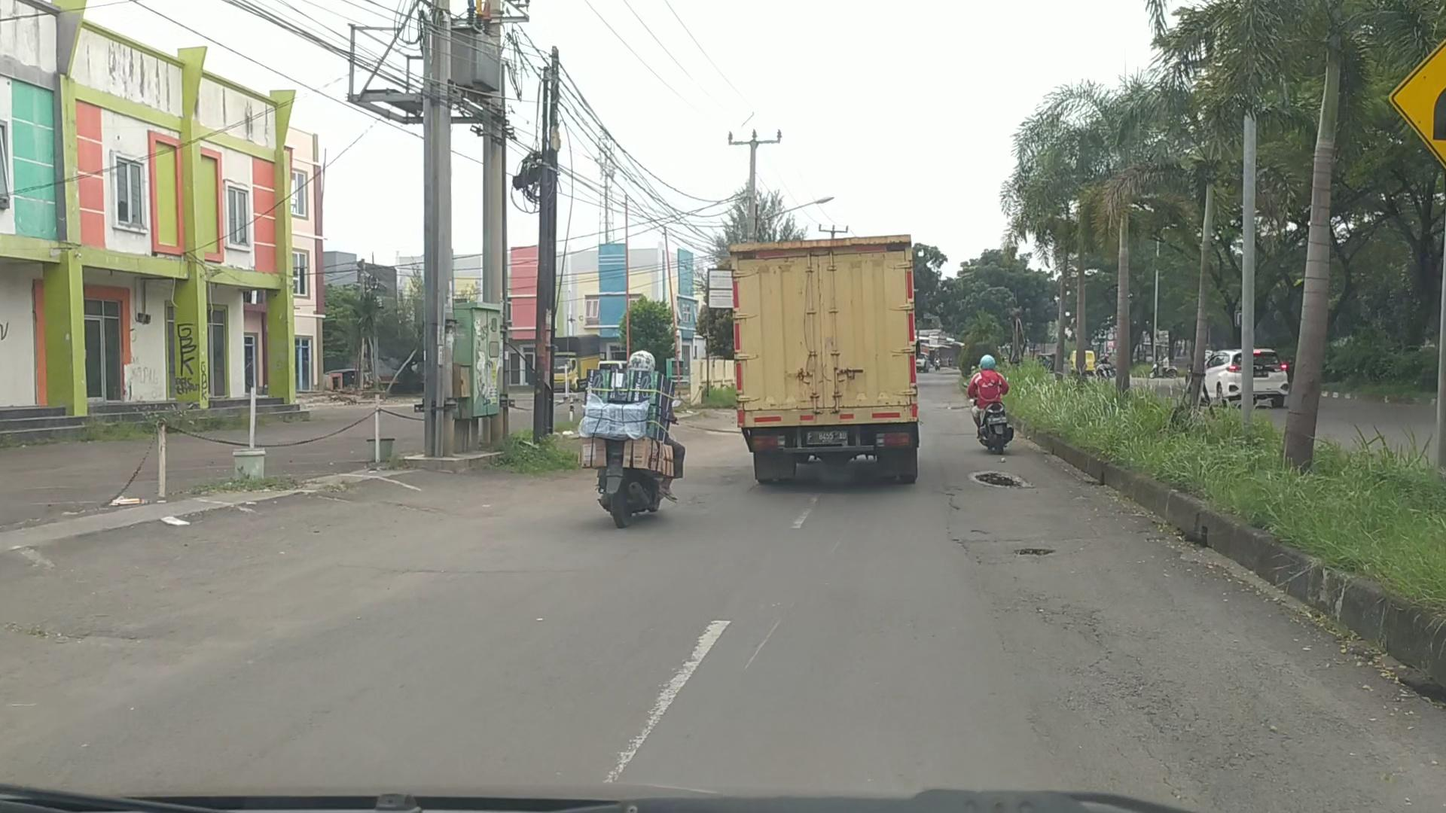pothole: (973, 466, 1022, 486), (1018, 546, 1050, 556)
